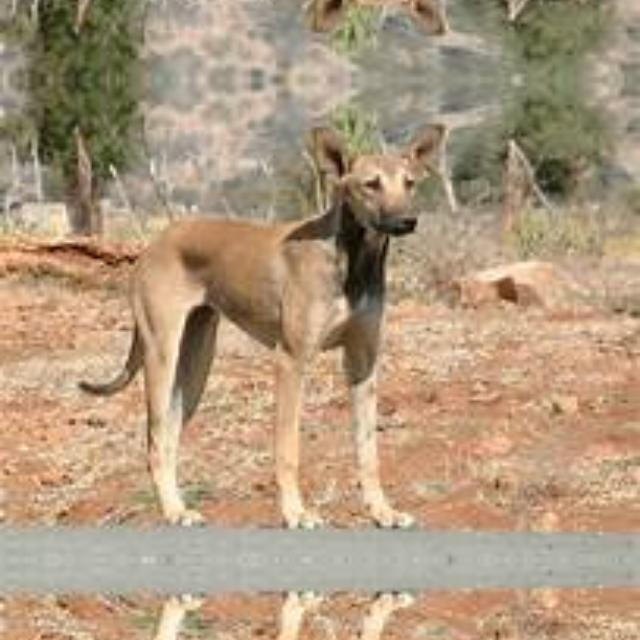dog: (103, 123, 469, 542), (103, 578, 469, 640), (103, 0, 469, 37)
